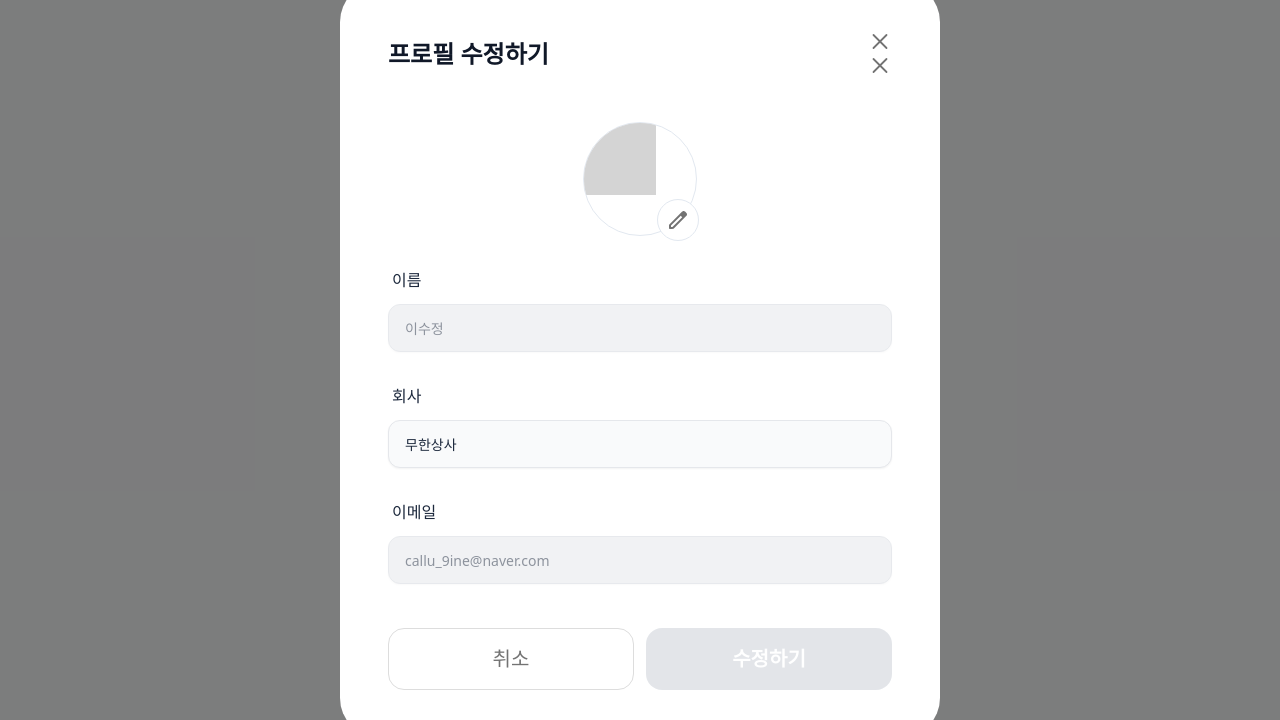
Test: 마이페이지 - 프로필 수정 모달 (ProfileUpdateModal) › 버튼 활성화 확인 › 프로필 정보 업데이트 감지하면 활성화
Replace the text in the field labelled "회사" with "테스트" at (640, 444), box [388,420,892,468]
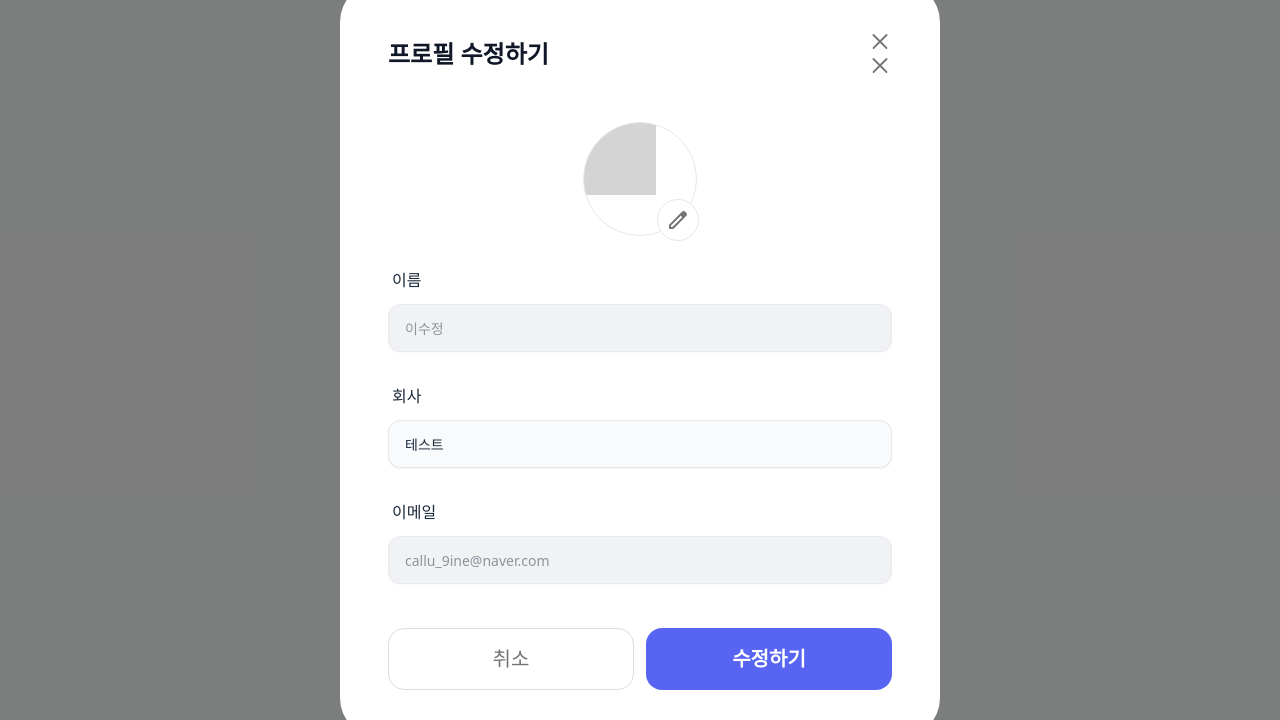
Check: the button "수정하기" is enabled, box [646,628,892,690]
